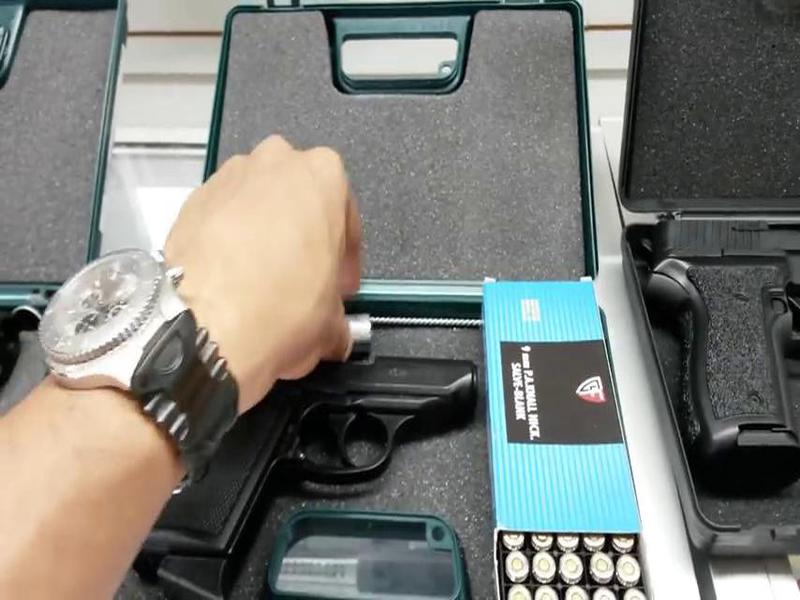Pistola: (128, 335, 500, 577)
